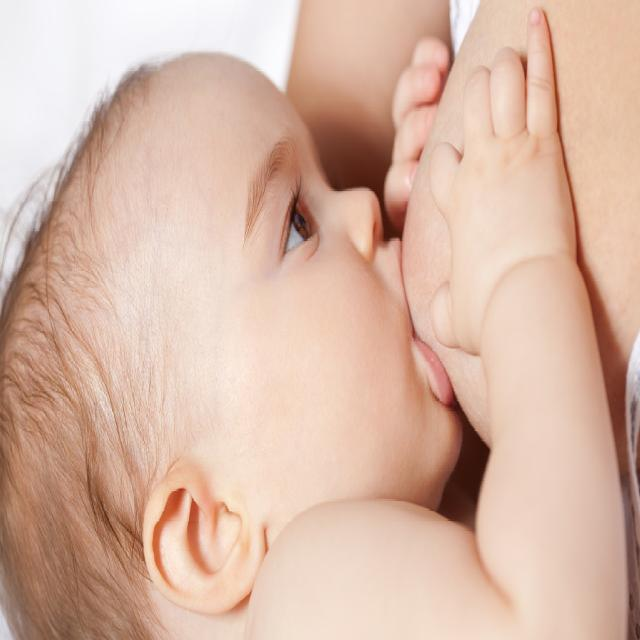non-dog: (0, 1, 640, 632)
